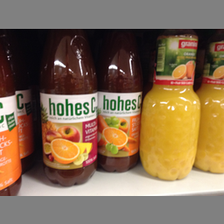juice: (139, 30, 201, 180), (39, 29, 96, 187), (95, 30, 143, 173)
